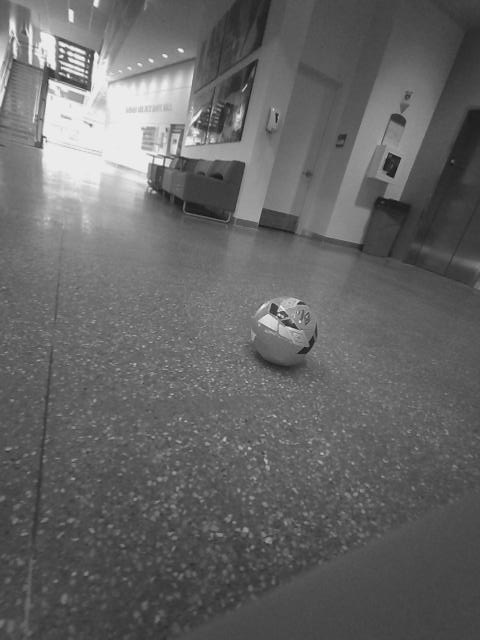ball: (201, 164, 236, 197)
